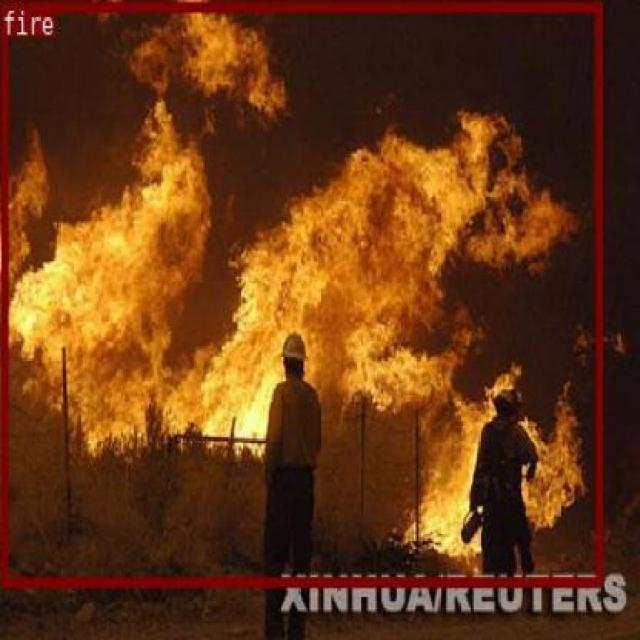Fire: (302, 292, 600, 583)
